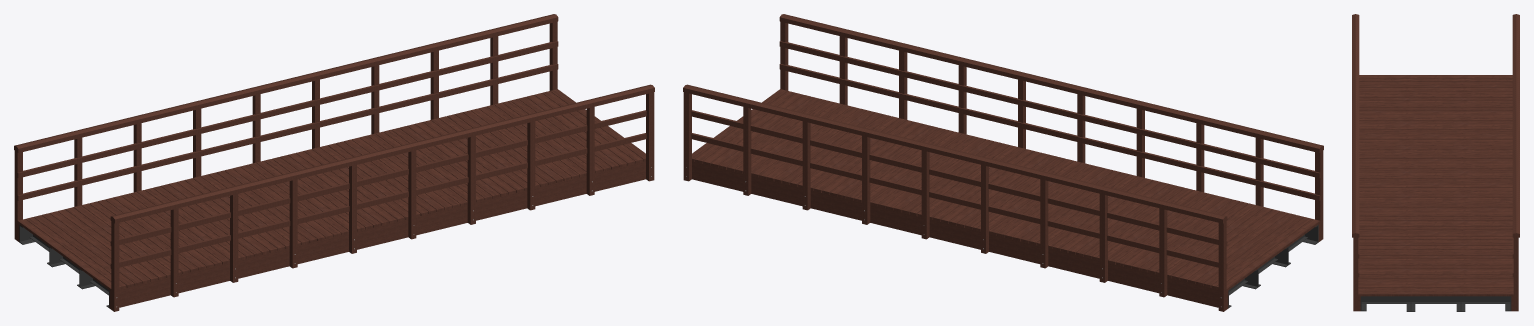
The model's file is Beam_TimberA.glb.
The picture shows the model from 3 angles, left to right: view 1: azimuth 30°, elevation 25°; view 2: azimuth 150°, elevation 25°; view 3: azimuth 270°, elevation 25°; orthographic projection. The views are drawn at different scales.
Bounding box in the file's own units: 10 × 1.68 × 3.23.
3 materials, 1 textured.
